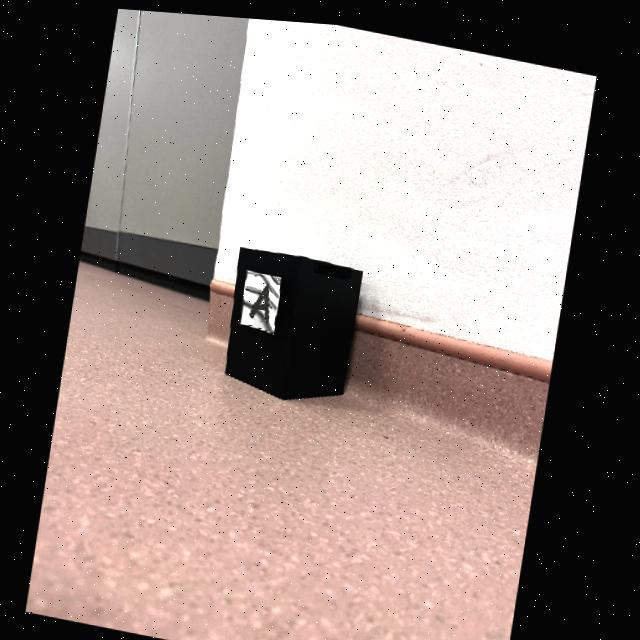A: (251, 279, 271, 318)
